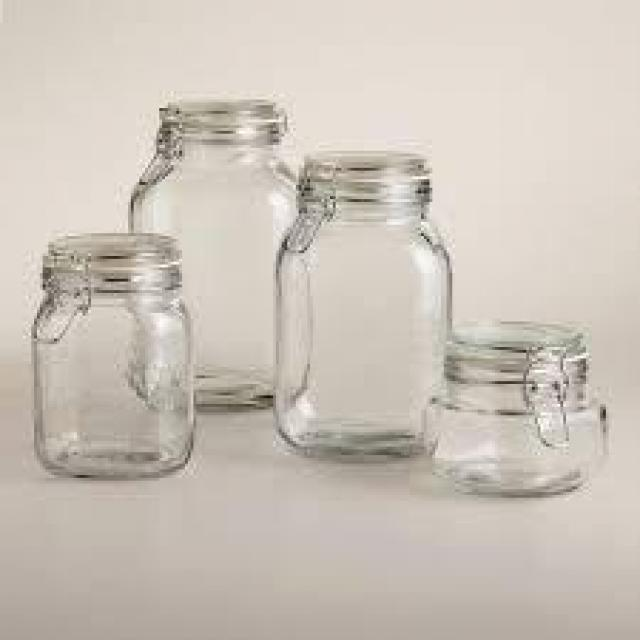non-organic waste: (23, 226, 199, 485), (436, 317, 614, 502)
